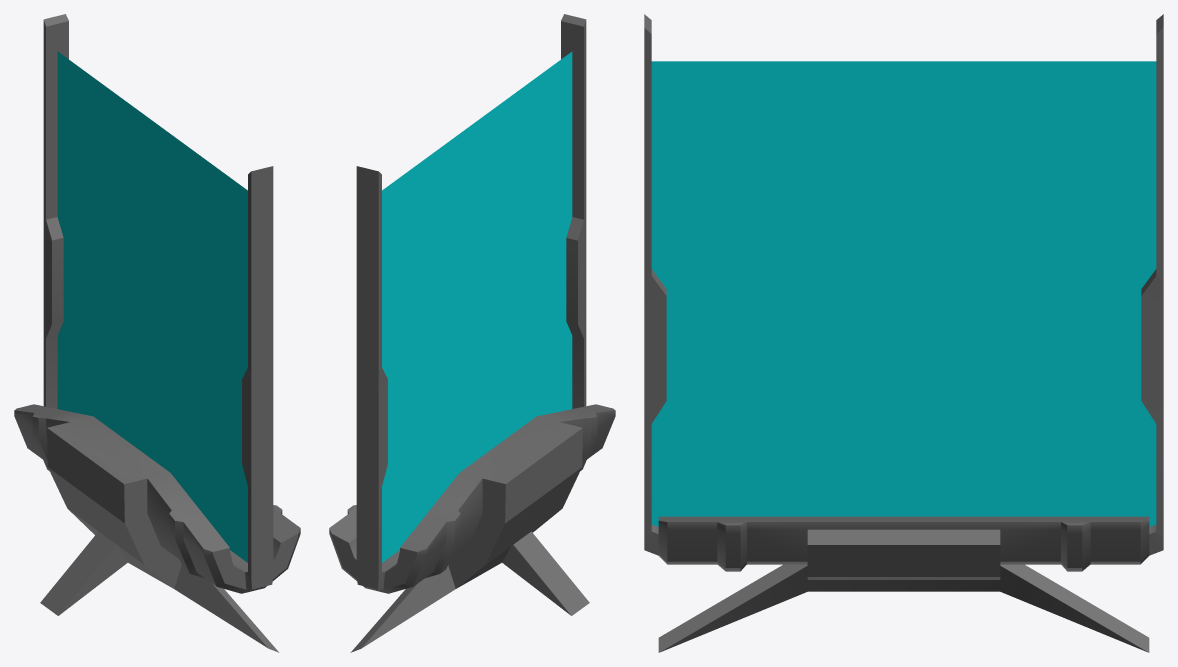
The model's file is Fence1.fbx.
3 renders of one model, left to right at view 1: azimuth 30°, elevation 25°; view 2: azimuth 150°, elevation 25°; view 3: azimuth 270°, elevation 25°, orthographic. The views are drawn at different scales.
Visible parts, largest first — view 1: pPlane4; view 2: pPlane4; view 3: pPlane4.
Boxes of the visible parts, <box> form: pPlane4: <box>14,14,300,652</box>; pPlane4: <box>329,14,615,652</box>; pPlane4: <box>644,14,1163,652</box>.
Size of the model in its own units: 7.26 by 20.44 by 15.56.
